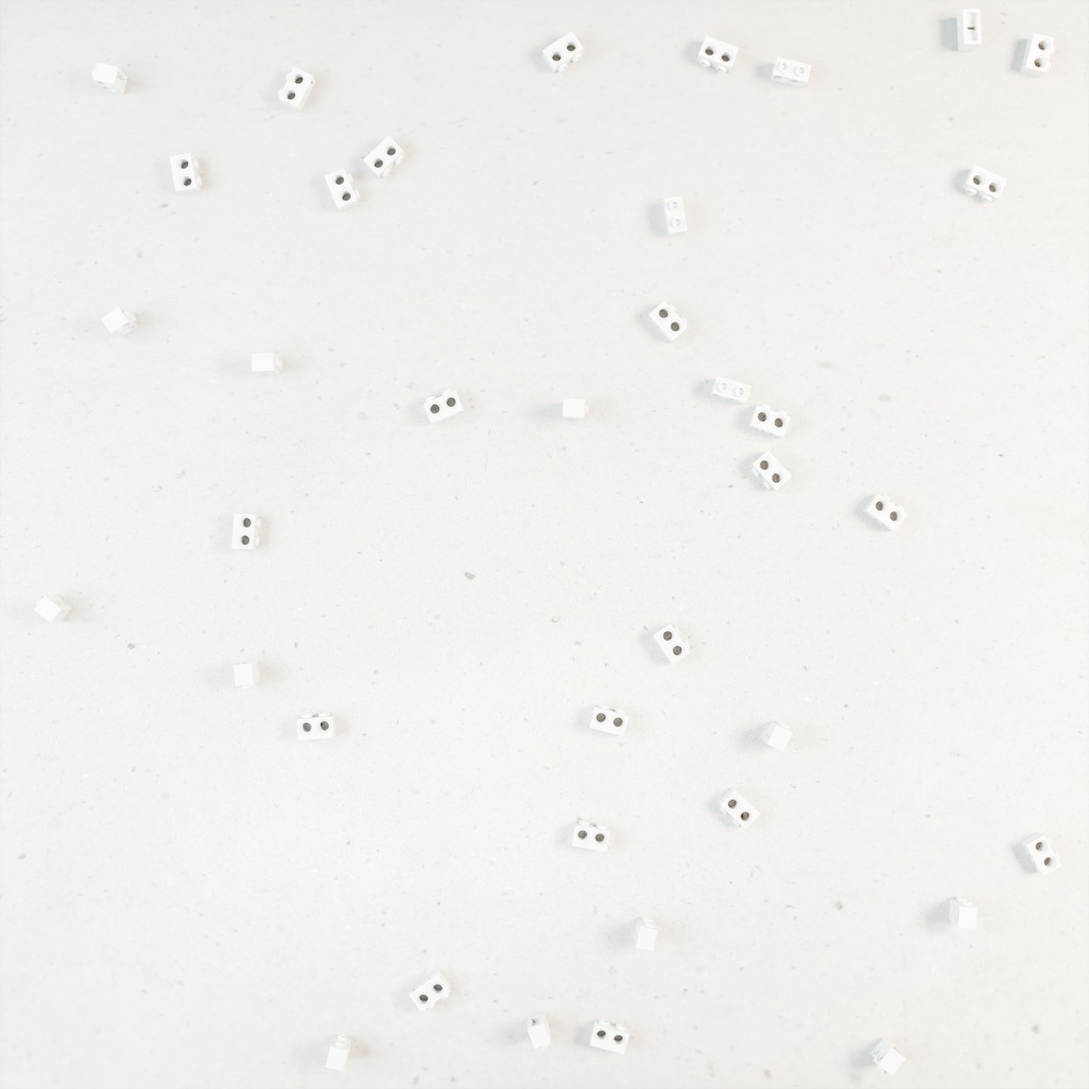lego: (363, 135, 405, 179), (1020, 832, 1061, 876), (962, 164, 1008, 203), (719, 787, 761, 829), (409, 970, 451, 1012), (750, 450, 792, 491), (542, 31, 583, 73), (648, 300, 688, 343), (863, 493, 907, 532), (278, 67, 316, 112), (652, 623, 690, 665), (697, 35, 739, 73), (324, 168, 360, 212), (1020, 33, 1055, 78), (423, 389, 465, 425), (748, 404, 791, 438), (589, 1019, 629, 1055), (169, 153, 202, 196), (871, 1036, 906, 1076), (770, 57, 812, 89), (589, 704, 629, 737), (571, 820, 610, 852), (710, 376, 751, 405), (92, 62, 128, 95), (101, 307, 138, 338), (297, 712, 336, 741), (231, 513, 261, 550), (34, 595, 73, 623), (957, 8, 982, 51), (663, 196, 687, 238), (762, 720, 793, 752), (326, 1034, 352, 1071), (949, 896, 978, 929), (527, 1012, 551, 1049), (634, 917, 658, 951), (233, 661, 260, 689), (252, 353, 283, 375), (562, 399, 588, 420)
